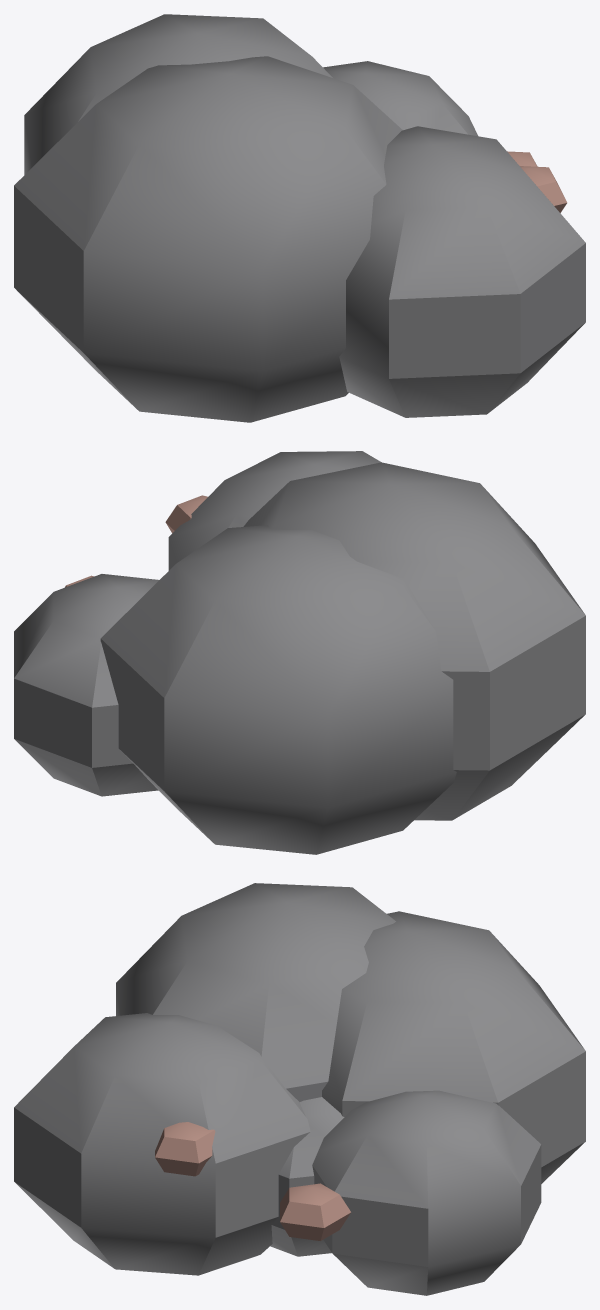
File: rock_iron.gltf
3 views of the same model, one above another, from view 1: azimuth 30°, elevation 25°; view 2: azimuth 150°, elevation 25°; view 3: azimuth 270°, elevation 25° (orthographic). The views are drawn at different scales.
Visible parts, largest first — view 1: Body; view 2: Body; view 3: Body.
Part boxes in pixels (bbox=[...]): Body: bbox=[14, 14, 585, 422]; Body: bbox=[14, 451, 585, 854]; Body: bbox=[14, 883, 585, 1295].
Size of the model in its own units: 1.38 by 0.864 by 1.45.
